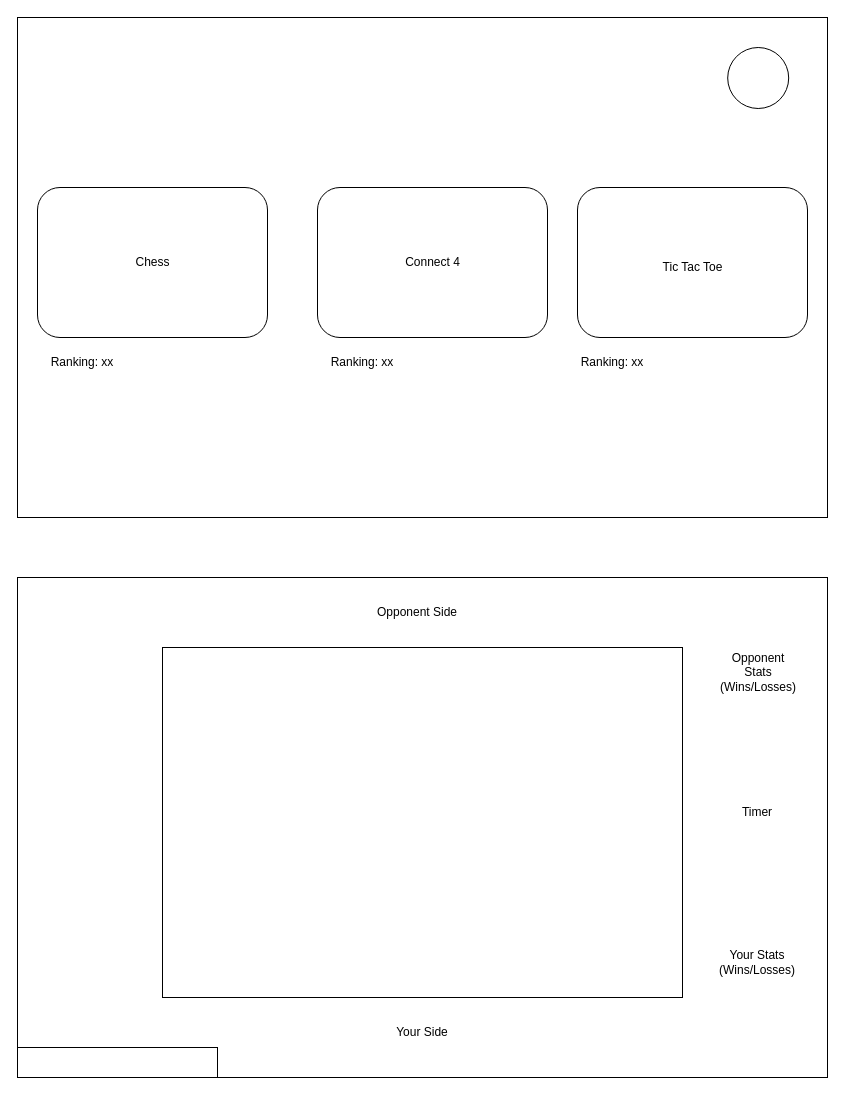
Image size: 845x1095. Some labels were removed from this diagram. Here are the shapes that lost their labels. From the top down, the centre of each, then its label:
the point at 758,77: Profile
the point at 117,1062: Chat
